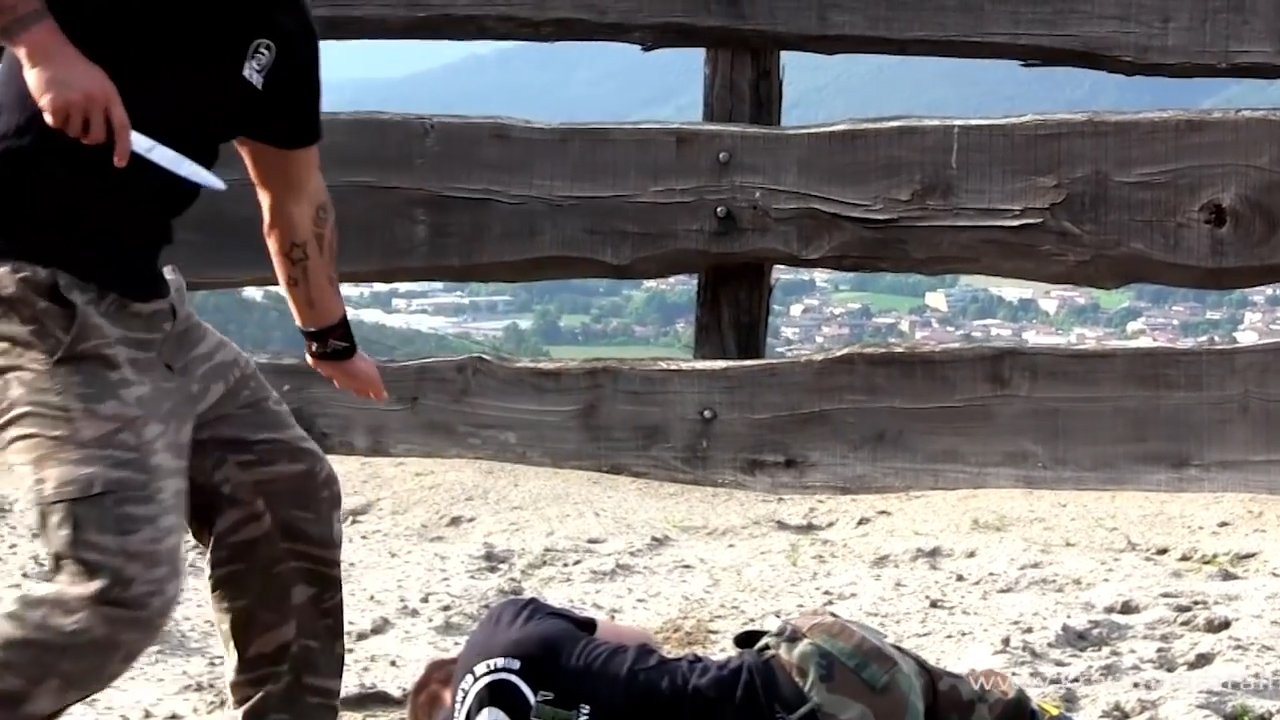knife: (43, 88, 241, 196)
